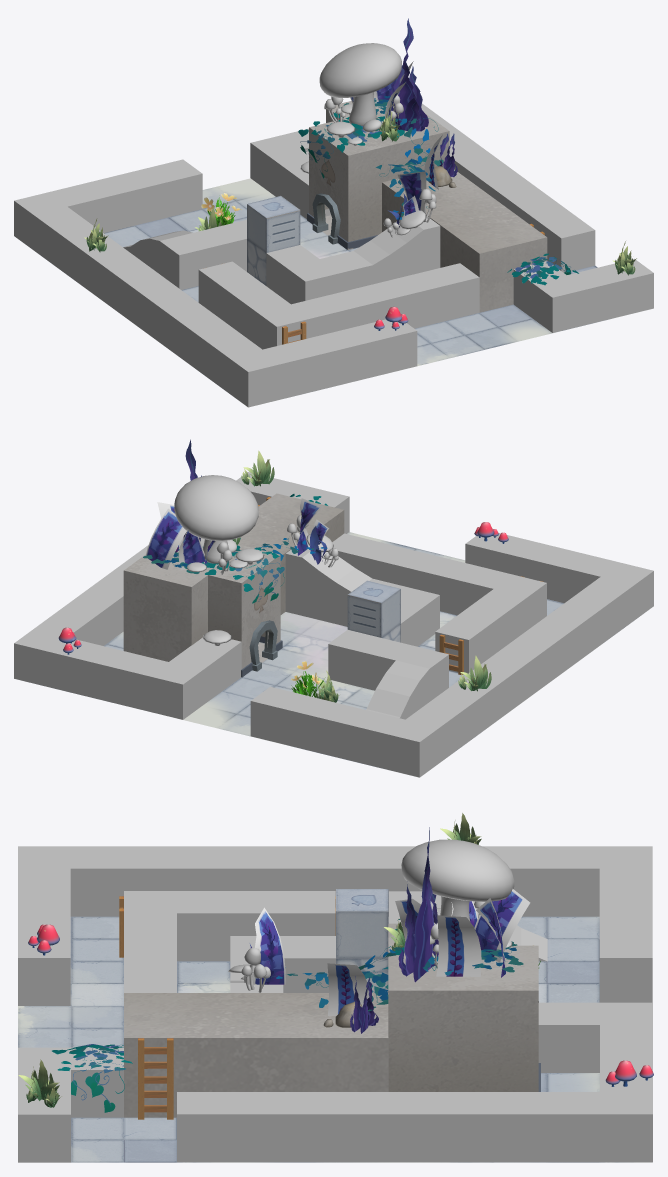
The model's file is Map_02_new.FBX.
The picture shows the model from 3 angles, top to bottom: view 1: azimuth 30°, elevation 25°; view 2: azimuth 150°, elevation 25°; view 3: azimuth 270°, elevation 25°; orthographic projection. The views are drawn at different scales.
Parts seen in each view (by area): view 1: we12, House_ncl1_1, we10, House, back034, move element, Plane013, Plane133, door, Plane046, Plane052, Plane043 (+2 smaller); view 2: we12, House, we10, back034, House_ncl1_1, move element, Plane062, Plane013, door, Plane061, Plane052; view 3: we12, House_ncl1_1, we10, House, back034, move element, Plane050, Plane061, Plane052, Plane133, Plane137, Plane046 (+4 smaller).
Boxes of the visible parts, bbox=[...] form: we12: bbox=[14, 103, 653, 407]; House_ncl1_1: bbox=[382, 169, 547, 312]; we10: bbox=[21, 178, 652, 407]; House: bbox=[307, 101, 449, 249]; back034: bbox=[319, 43, 401, 125]; move element: bbox=[247, 196, 300, 285]; Plane013: bbox=[298, 112, 404, 178]; Plane133: bbox=[507, 253, 578, 285]; door: bbox=[312, 193, 340, 244]; Plane046: bbox=[391, 18, 428, 126]; Plane052: bbox=[398, 171, 426, 211]; Plane043: bbox=[341, 96, 438, 162]; we12: bbox=[14, 472, 653, 777]; House: bbox=[123, 544, 282, 677]; we10: bbox=[15, 532, 638, 777]; back034: bbox=[174, 475, 258, 563]; House_ncl1_1: bbox=[238, 493, 344, 614]; move element: bbox=[347, 580, 400, 642]; Plane062: bbox=[146, 508, 186, 569]; Plane013: bbox=[202, 545, 284, 603]; door: bbox=[249, 620, 277, 671]; Plane061: bbox=[178, 529, 205, 570]; Plane052: bbox=[297, 498, 322, 556]; we12: bbox=[18, 846, 652, 1162]; House_ncl1_1: bbox=[124, 993, 388, 1117]; we10: bbox=[18, 916, 652, 1162]; House: bbox=[388, 923, 540, 1091]; back034: bbox=[401, 839, 514, 921]; move element: bbox=[336, 889, 388, 992]; Plane050: bbox=[436, 915, 481, 976]; Plane061: bbox=[474, 889, 530, 962]; Plane052: bbox=[247, 907, 285, 984]; Plane133: bbox=[52, 1044, 132, 1112]; Plane137: bbox=[327, 963, 369, 1015]; Plane046: bbox=[413, 827, 435, 982].
Bounding box in the file's own units: 3969 × 3993 × 1981.
